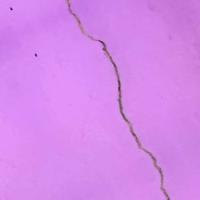crack: (64, 2, 178, 199)
